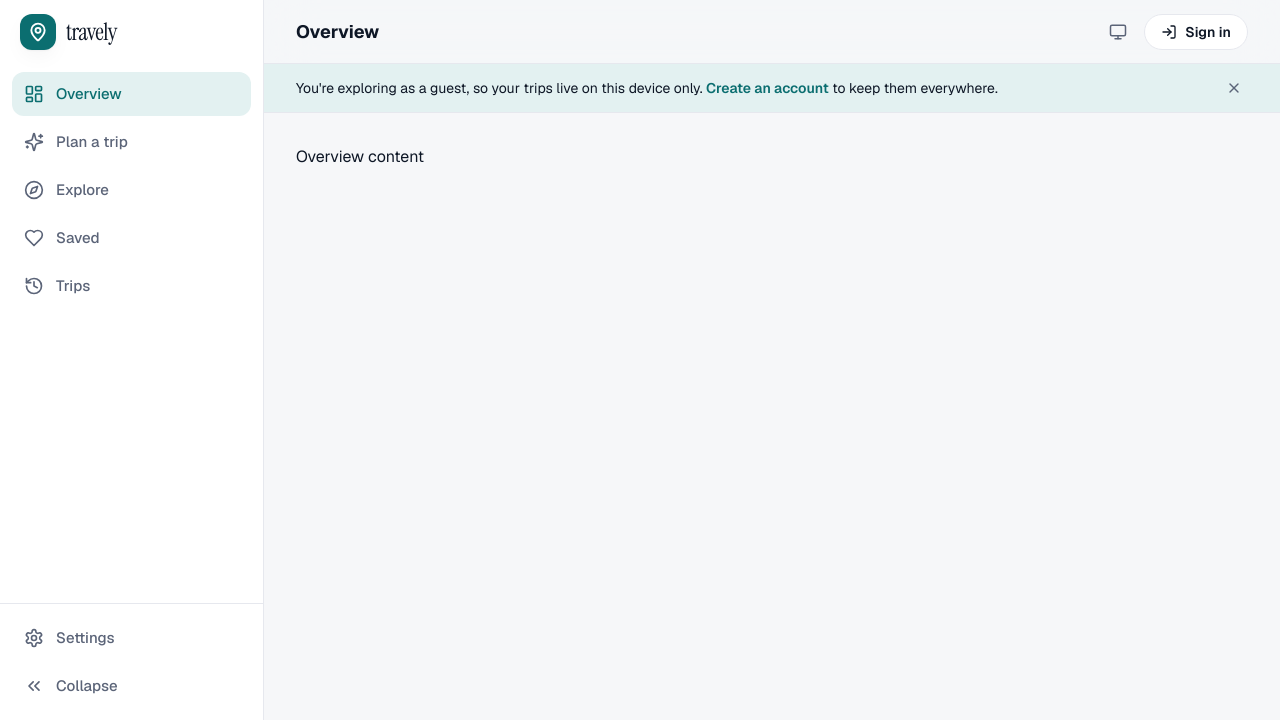
AppShell › collapses the sidebar and remembers it
Click the button with aria-label "Collapse sidebar": (132, 686) [12,664,251,708]
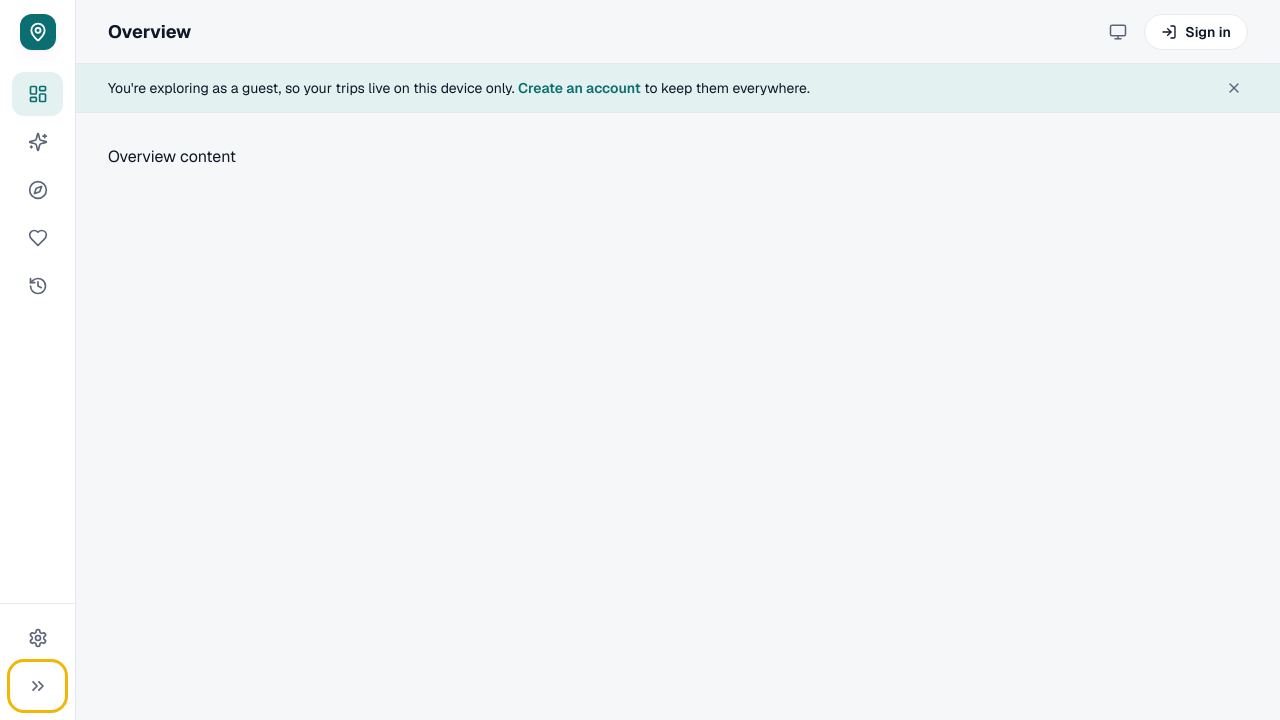
Result: the button named "Expand sidebar" is shown at [12,664,63,708]
